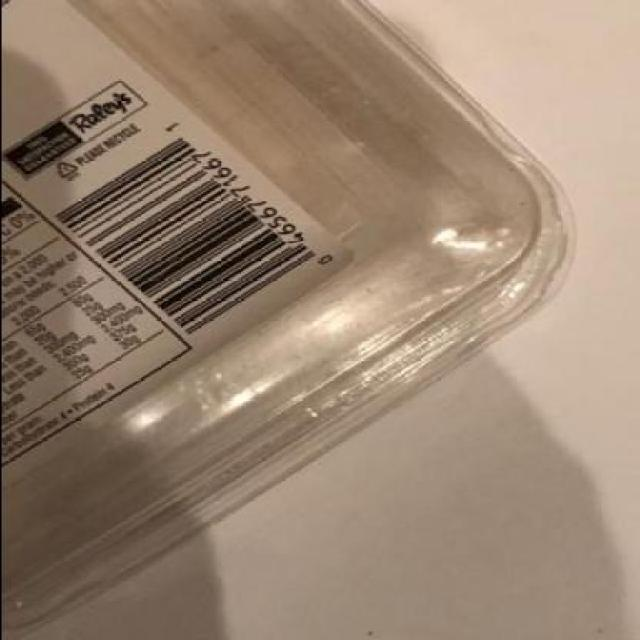PLASTIC: (1, 0, 578, 638)
